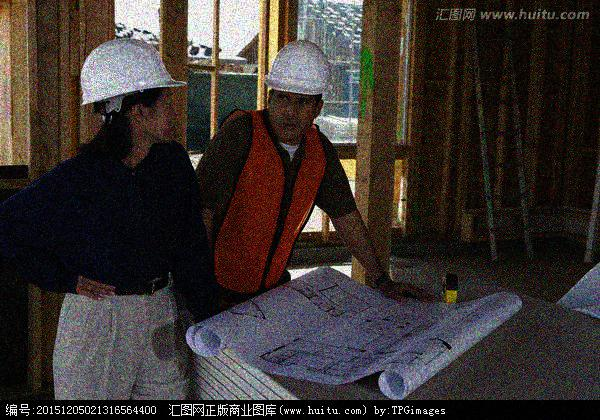helmet: (76, 37, 189, 145), (260, 39, 336, 142)
